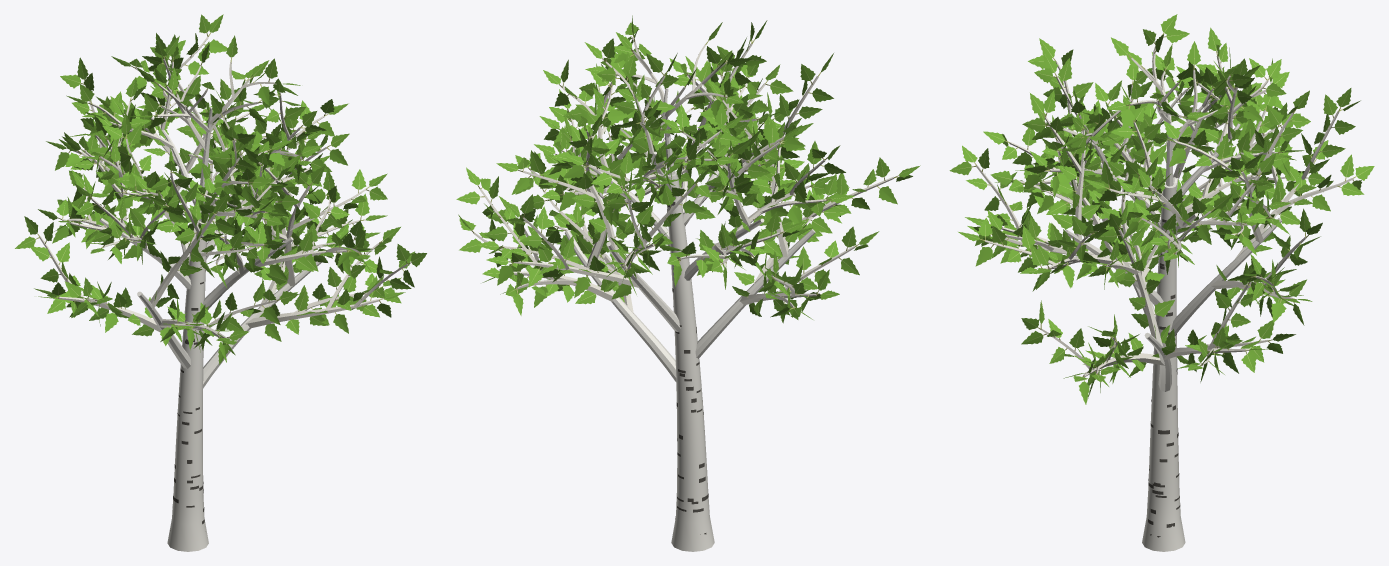
3 renders of one model, left to right at view 1: azimuth 30°, elevation 25°; view 2: azimuth 150°, elevation 25°; view 3: azimuth 270°, elevation 25°, orthographic. The views are drawn at different scales.
Parts seen in each view (by area): view 1: body; view 2: body; view 3: body.
Boxes of the visible parts, x1=… form: body: x1=15, y1=14, x2=426, y2=551; body: x1=456, y1=15, x2=920, y2=551; body: x1=949, y1=14, x2=1374, y2=551.
Size of the model in its own units: 5.36 by 7.06 by 5.25.
1 material, 1 textured.
